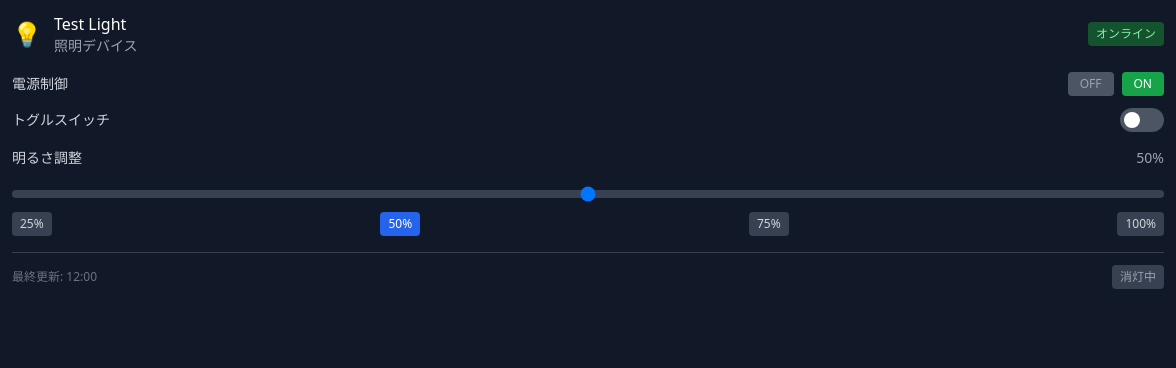
LightControl › should show feedback messages
Click the button "ON" at (1143, 84), box [1122,72,1164,96]
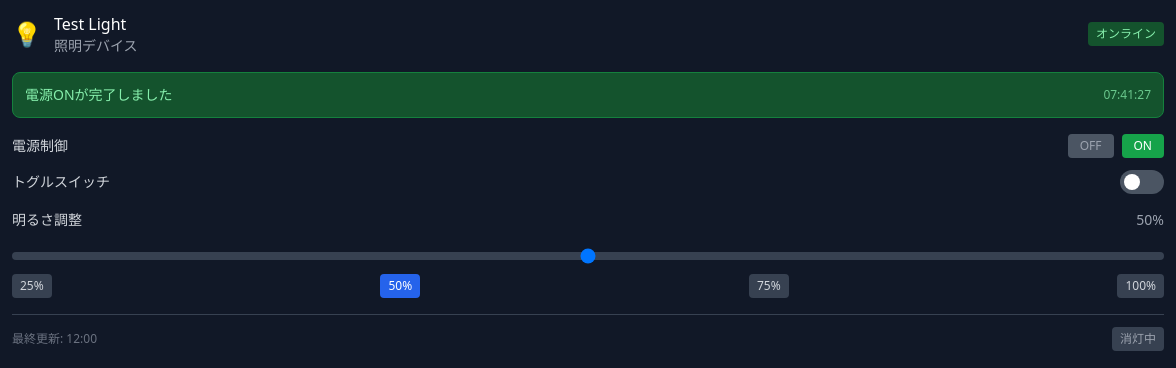
Check: the text "電源ONが完了しました" is shown, box [25,85,173,105]
